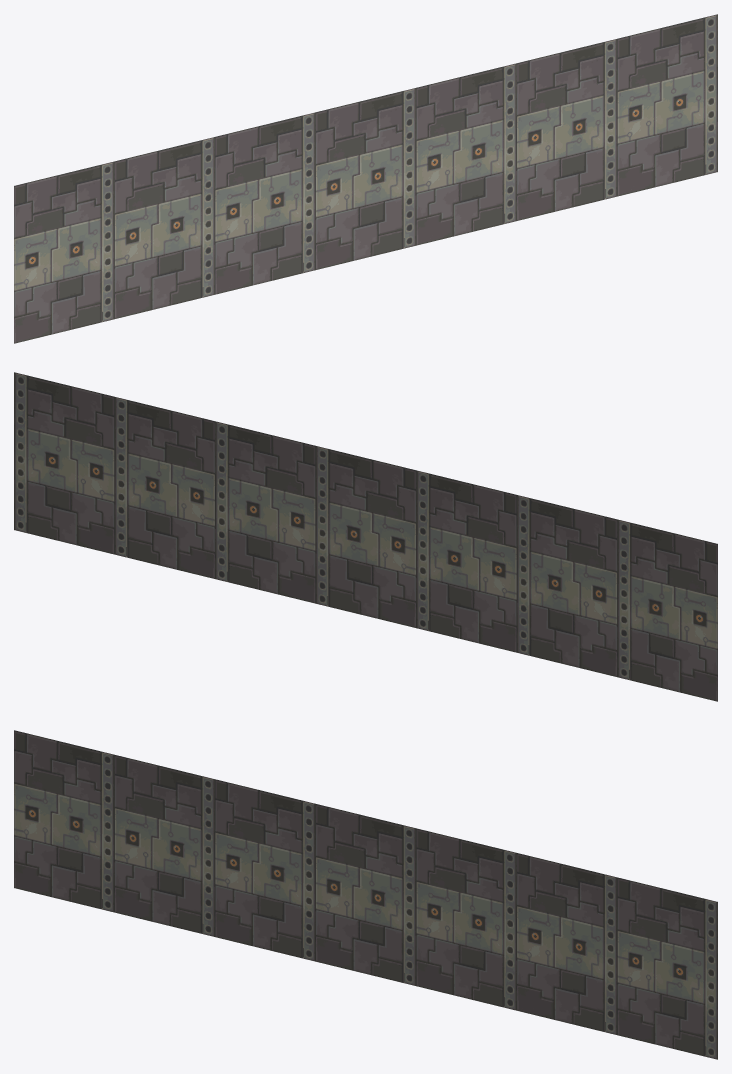
Rendered from Wall1-7.fbx.
3 views of the same model, one above another, from view 1: azimuth 30°, elevation 25°; view 2: azimuth 150°, elevation 25°; view 3: azimuth 330°, elevation 25° (orthographic).
Visible parts, largest first — view 1: Wall1-7; view 2: Wall1-7; view 3: Wall1-7.
Boxes of the visible parts, <box> form: Wall1-7: <box>14,14,717,343</box>; Wall1-7: <box>14,372,717,701</box>; Wall1-7: <box>14,730,717,1059</box>.
Bounding box in the file's own units: 28 × 6 × 8.9e-07.
Materials: 1 (1 with a texture image).
